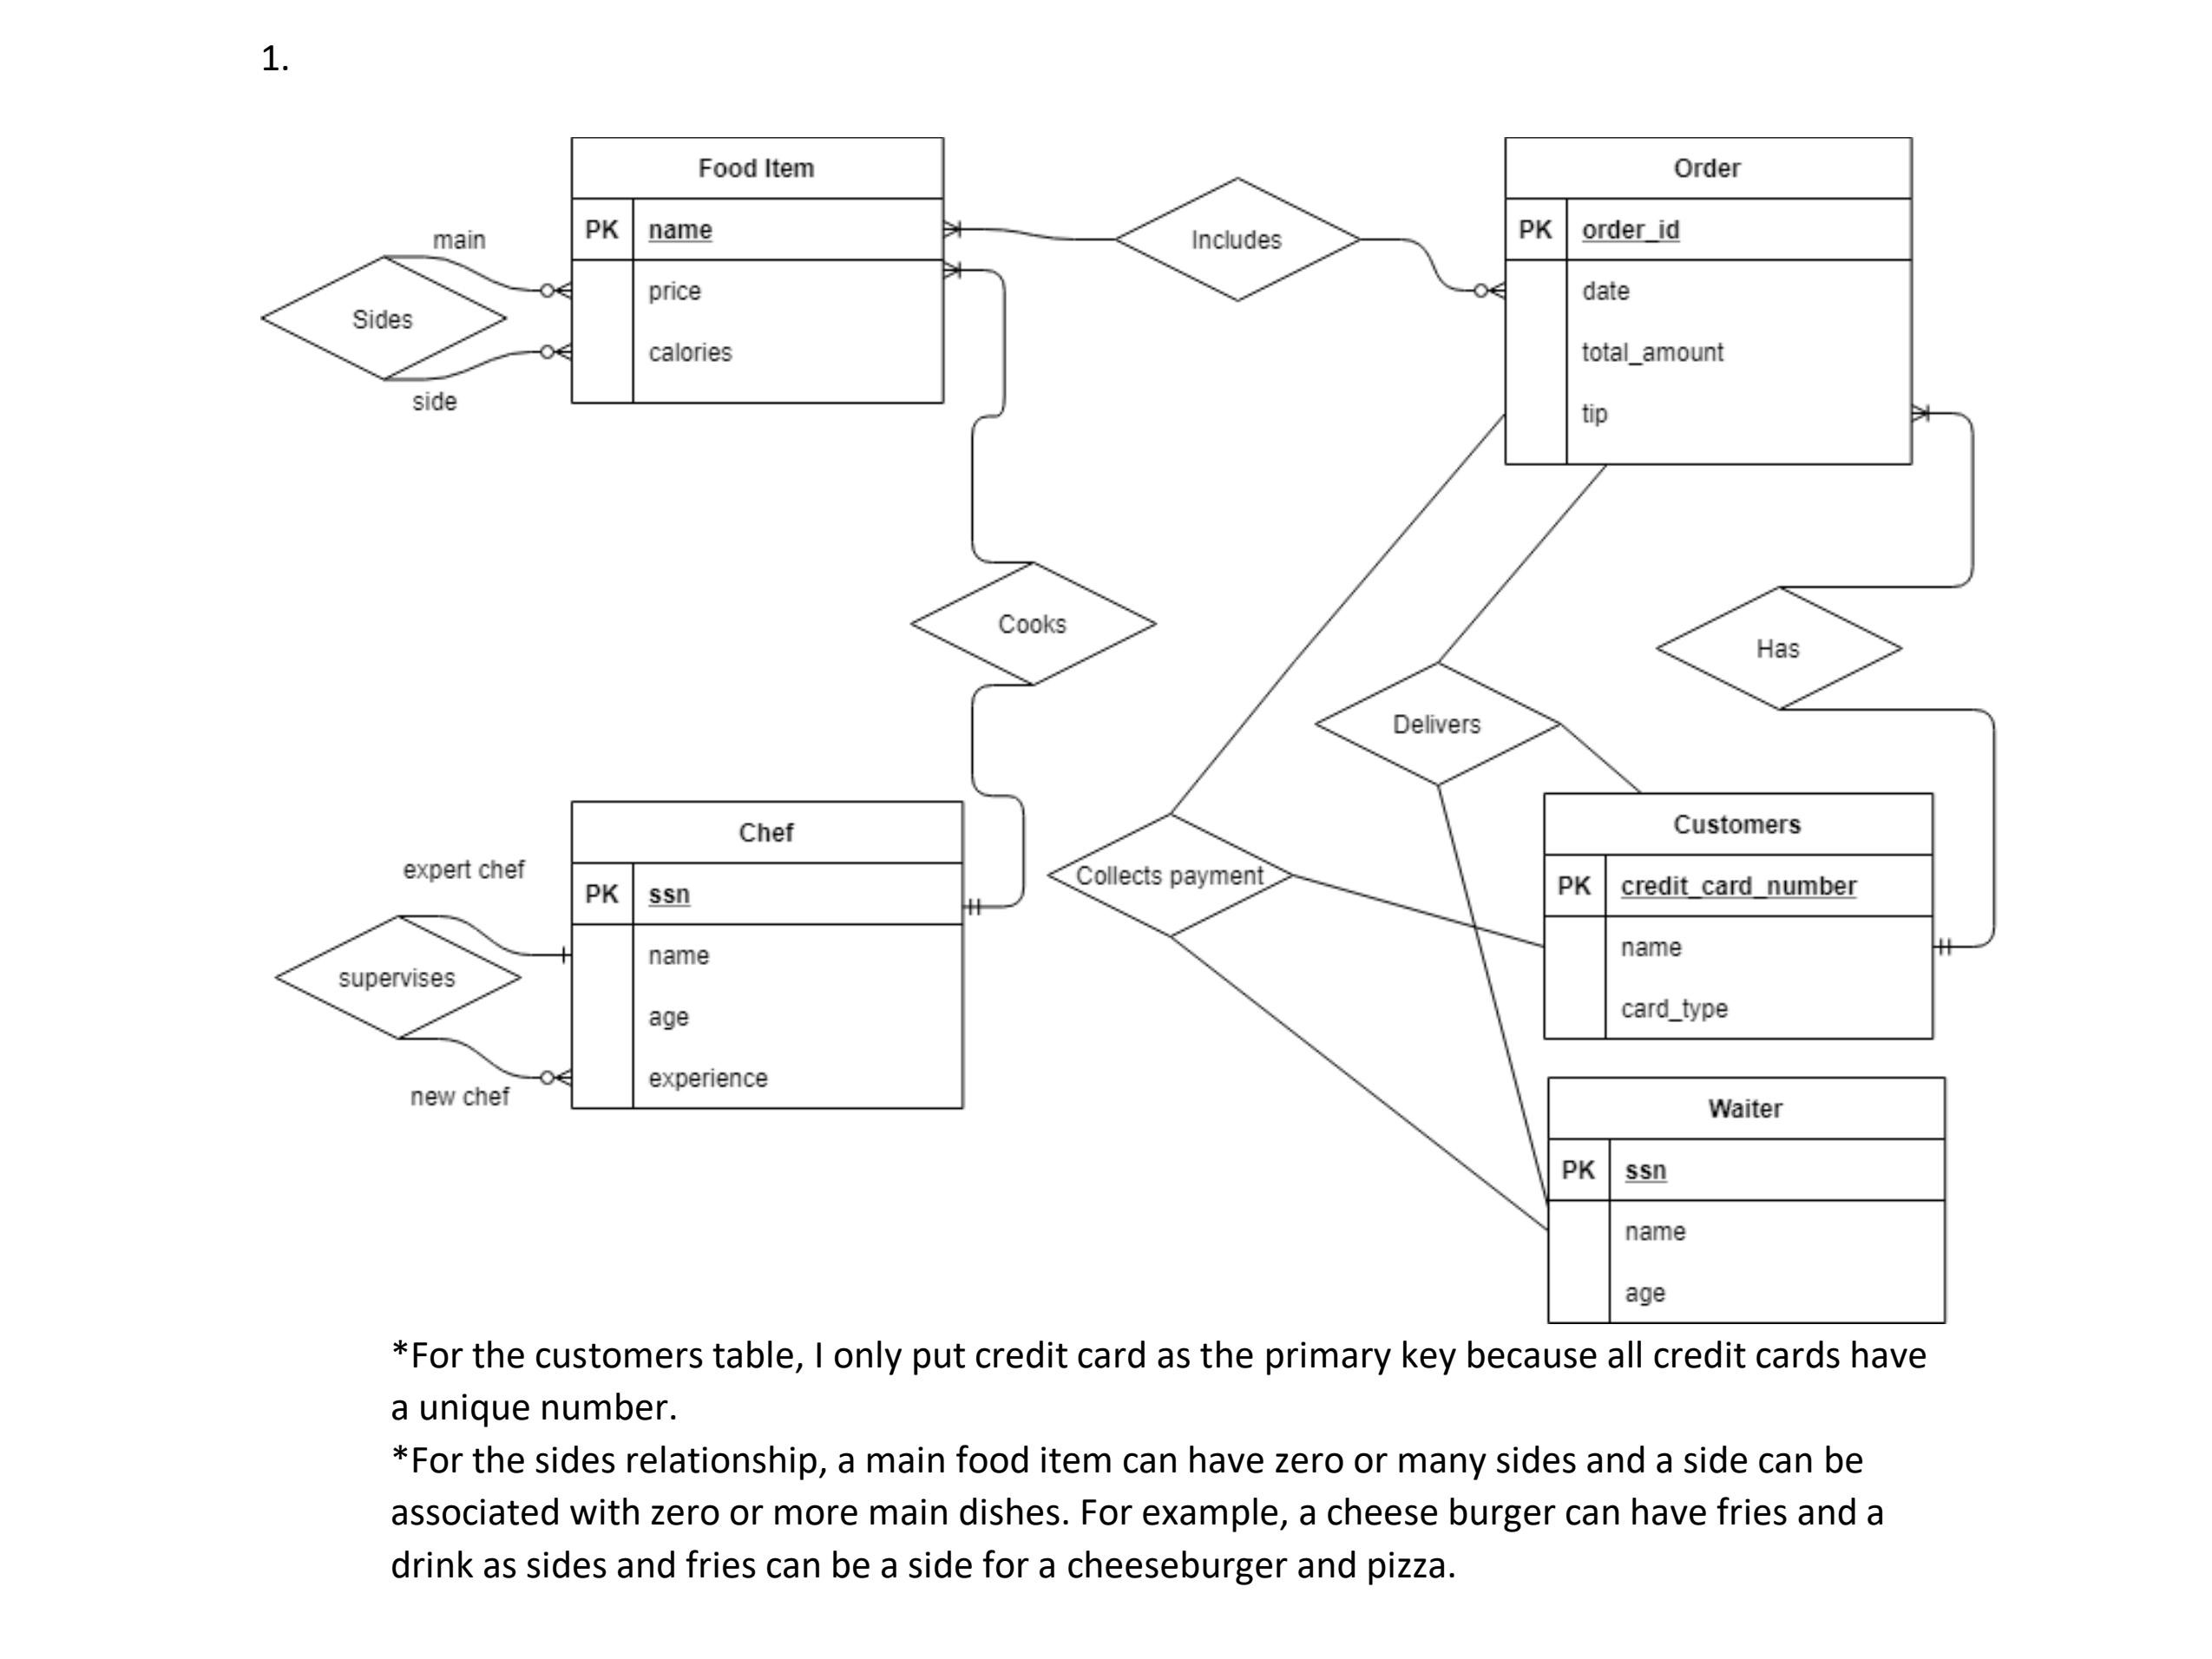Entity: (1497, 127, 1917, 471), (563, 795, 969, 1122), (561, 127, 953, 415), (1541, 1070, 1952, 1330), (1536, 786, 1937, 1044)
Relationship: (1042, 807, 1295, 945), (1116, 176, 1360, 317), (1651, 584, 1905, 714), (1313, 655, 1567, 786), (260, 254, 506, 385), (910, 558, 1156, 688), (274, 910, 519, 1040)
